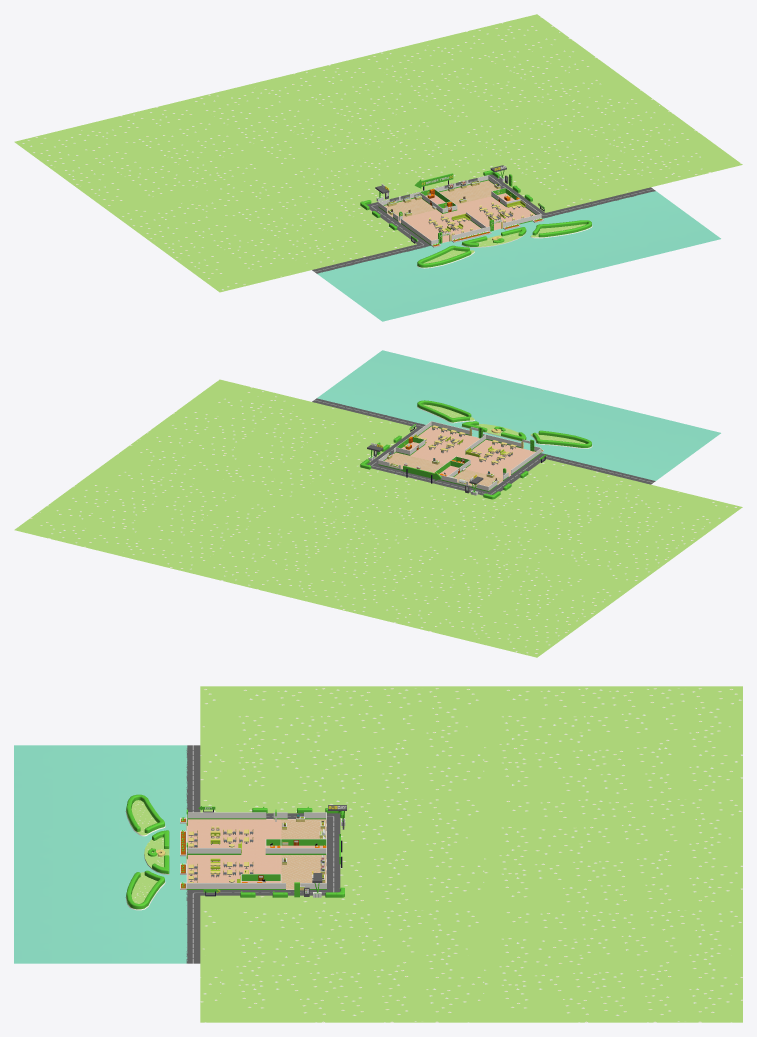
File: Map01.fbx
The picture shows the model from 3 angles, top to bottom: view 1: azimuth 30°, elevation 25°; view 2: azimuth 150°, elevation 25°; view 3: azimuth 270°, elevation 25°; orthographic projection. The views are drawn at different scales.
Parts seen in each view (by area): view 1: pPlane13, pPlane12, pPlane1, pPlane10, pPlane16 (×2); view 2: pPlane13, pPlane12, pPlane1, pPlane10, pPlane16 (×2); view 3: pPlane13, pPlane12, pPlane1, pPlane10, pPlane16 (×2), pPlane15 (×2), pCube3, pCube5.
Boxes of the visible parts, left/top/right/bottom form: pPlane13: left=14, top=14, right=742, bottom=292; pPlane12: left=317, top=191, right=720, bottom=321; pPlane1: left=384, top=180, right=535, bottom=242; pPlane10: left=312, top=174, right=655, bottom=273; pPlane16 (×2): left=417, top=220, right=591, bottom=267; pPlane13: left=14, top=379, right=742, bottom=657; pPlane12: left=317, top=350, right=720, bottom=480; pPlane1: left=384, top=426, right=535, bottom=486; pPlane10: left=312, top=398, right=655, bottom=495; pPlane16 (×2): left=417, top=400, right=591, bottom=447; pPlane13: left=200, top=686, right=742, bottom=1022; pPlane12: left=14, top=745, right=187, bottom=963; pPlane1: left=187, top=819, right=326, bottom=889; pPlane10: left=186, top=745, right=340, bottom=963; pPlane16 (×2): left=126, top=794, right=164, bottom=909; pPlane15 (×2): left=125, top=800, right=165, bottom=910; pCube3: left=188, top=812, right=326, bottom=819; pCube5: left=186, top=883, right=326, bottom=889.
Bounding box in the file's own units: 18970 × 527 × 17360.
